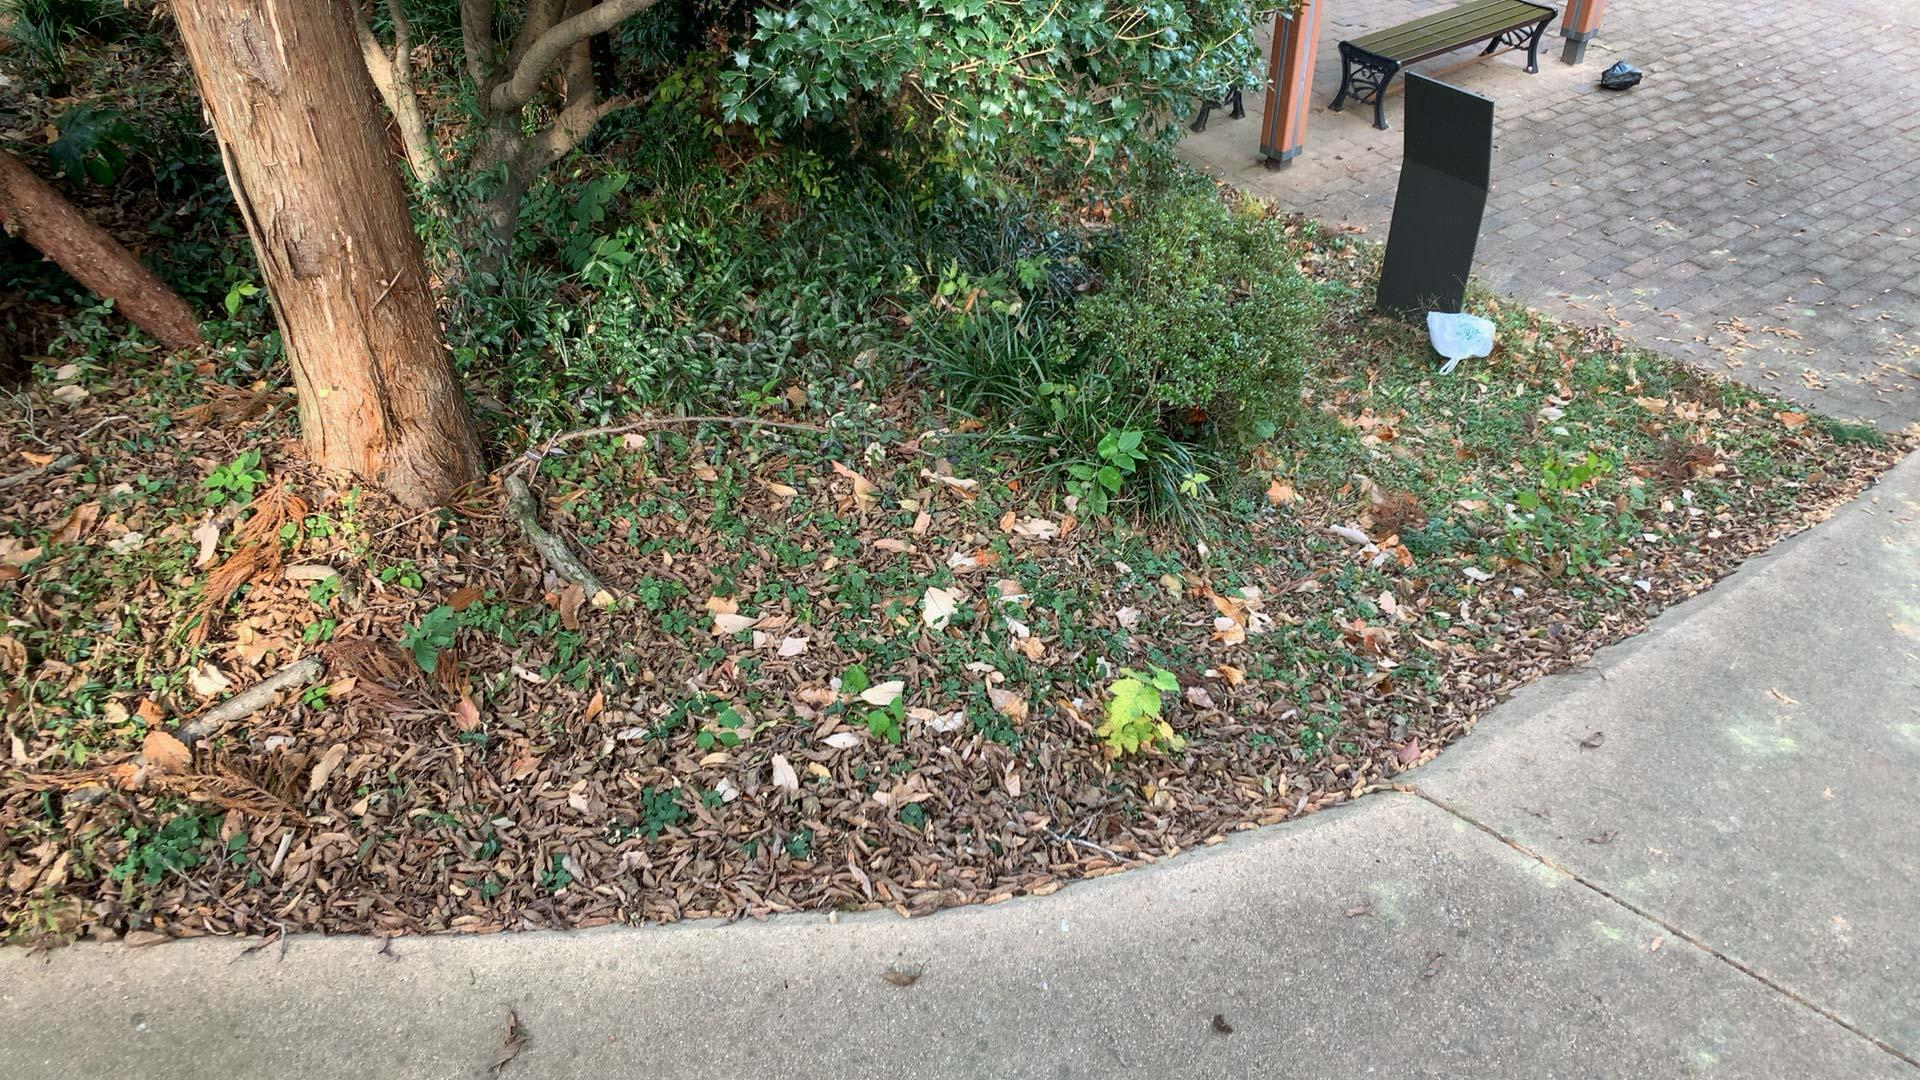white_bag: (1418, 303, 1501, 375), (1596, 57, 1646, 96)
